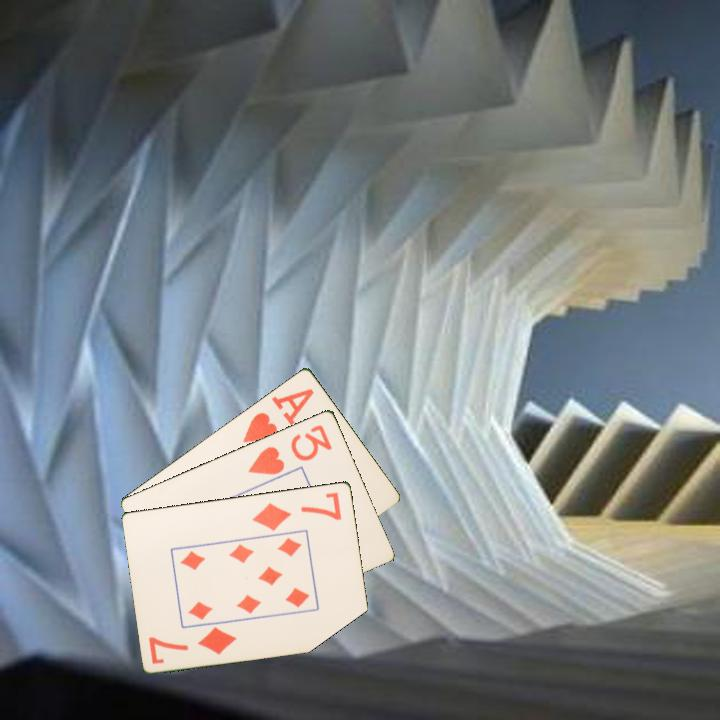3h: (245, 421, 335, 478)
7d: (249, 488, 345, 533), (145, 623, 240, 667)
Ah: (239, 384, 317, 446)
